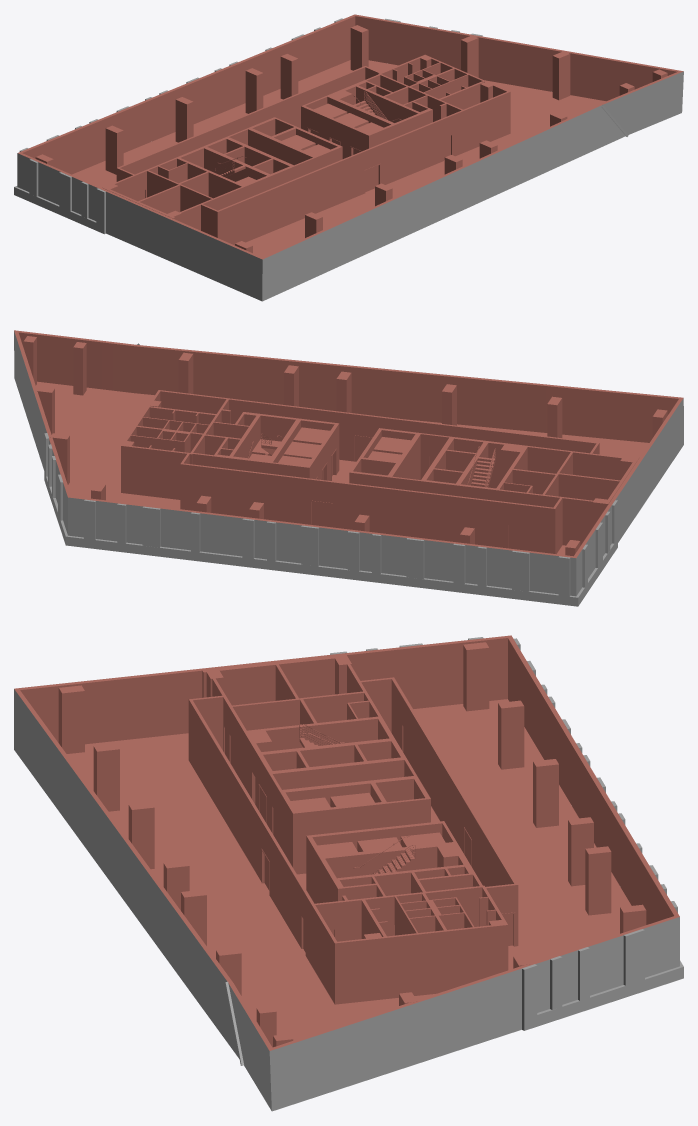
File: JLL_Ruya_Region3DModels_Riyadh_Derived_HeroBuildings_Building 305_Floors_KSA_04_04105_B29_Floor_T1_4.fbx
The picture shows the model from 3 angles, top to bottom: view 1: azimuth 30°, elevation 25°; view 2: azimuth 150°, elevation 25°; view 3: azimuth 270°, elevation 25°; orthographic projection. The views are drawn at different scales.
Parts seen in each view (by area): view 1: KSA_04_04105_B29_Floor_T1_4; view 2: KSA_04_04105_B29_Floor_T1_4; view 3: KSA_04_04105_B29_Floor_T1_4.
Part boxes in pixels (<box>): KSA_04_04105_B29_Floor_T1_4: <box>14,14,683,301</box>; KSA_04_04105_B29_Floor_T1_4: <box>14,330,683,606</box>; KSA_04_04105_B29_Floor_T1_4: <box>14,635,683,1111</box>.
Size of what is drawn, in the model's own units: 5969 by 510 by 4048.
